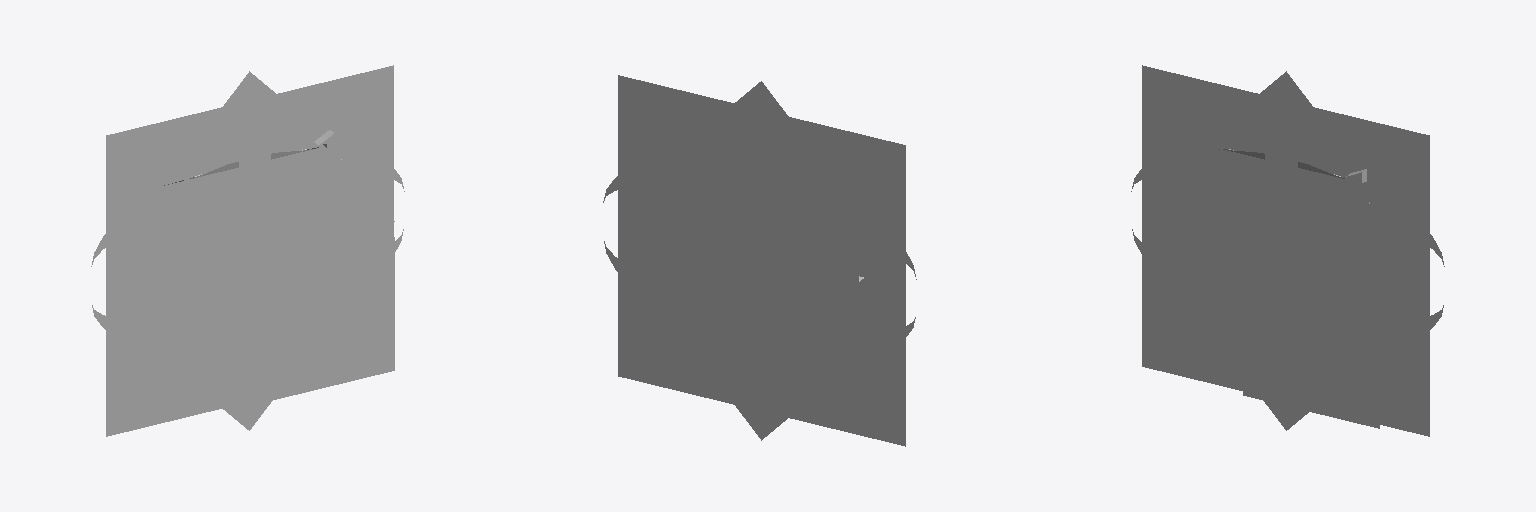
The model's file is icons_triangulated.obj.
3 views of the same model, side by side, from view 1: azimuth 30°, elevation 25°; view 2: azimuth 150°, elevation 25°; view 3: azimuth 330°, elevation 25° (orthographic).
Visible parts, largest first — view 1: copy, hollow_square, giant_trash, gear, stop, shuffle, up_down_arrow, trash, reload, hamburger; view 2: bg, hollow_square, heart, up_down_arrow, copy, eye, paste, stop; view 3: hollow_square, copy, giant_trash, stop, gear, shuffle, up_down_arrow, hamburger, reload, trash.
Part boxes in pixels (bbox=[...]): copy: bbox=[259, 176, 394, 403]; hollow_square: bbox=[106, 65, 393, 436]; giant_trash: bbox=[159, 103, 330, 398]; gear: bbox=[143, 134, 365, 374]; stop: bbox=[138, 108, 360, 394]; shuffle: bbox=[138, 167, 369, 332]; up_down_arrow: bbox=[143, 71, 318, 430]; trash: bbox=[180, 134, 318, 374]; reload: bbox=[287, 123, 358, 192]; hamburger: bbox=[138, 108, 360, 391]; bg: bbox=[637, 127, 858, 413]; hollow_square: bbox=[618, 75, 905, 446]; heart: bbox=[643, 234, 863, 375]; up_down_arrow: bbox=[699, 81, 816, 440]; copy: bbox=[774, 142, 875, 370]; eye: bbox=[603, 166, 916, 353]; paste: bbox=[717, 128, 860, 391]; stop: bbox=[650, 117, 872, 403]; hollow_square: bbox=[1142, 65, 1429, 436]; copy: bbox=[1243, 184, 1379, 428]; giant_trash: bbox=[1194, 103, 1366, 341]; stop: bbox=[1175, 109, 1397, 393]; gear: bbox=[1170, 134, 1392, 331]; shuffle: bbox=[1165, 174, 1385, 297]; up_down_arrow: bbox=[1183, 71, 1393, 430]; hamburger: bbox=[1175, 108, 1397, 394]; reload: bbox=[1300, 174, 1386, 231]; trash: bbox=[1217, 134, 1353, 351].
Bounding box in the file's own units: 1.41 × 1.55 × 0.3074.